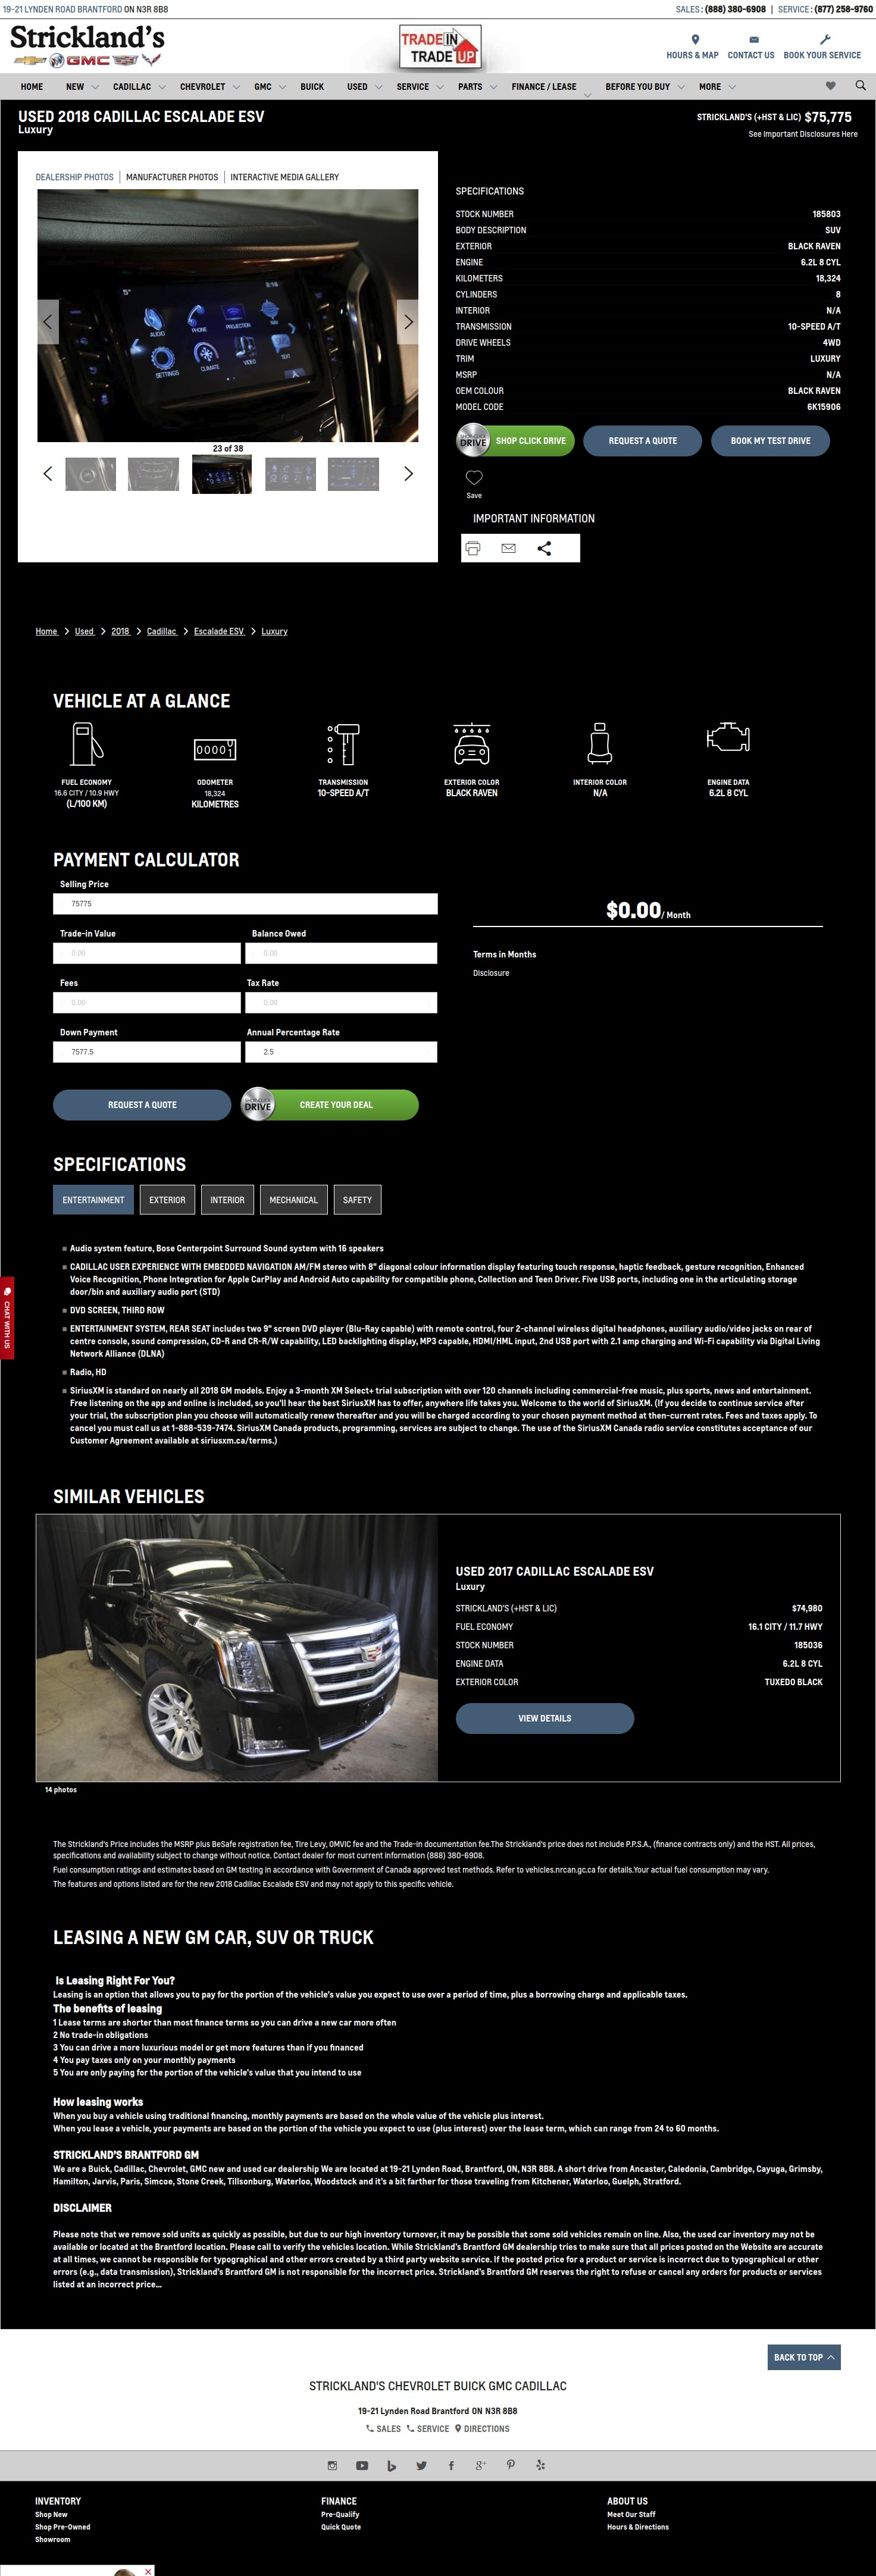car: (404, 467, 414, 483)
